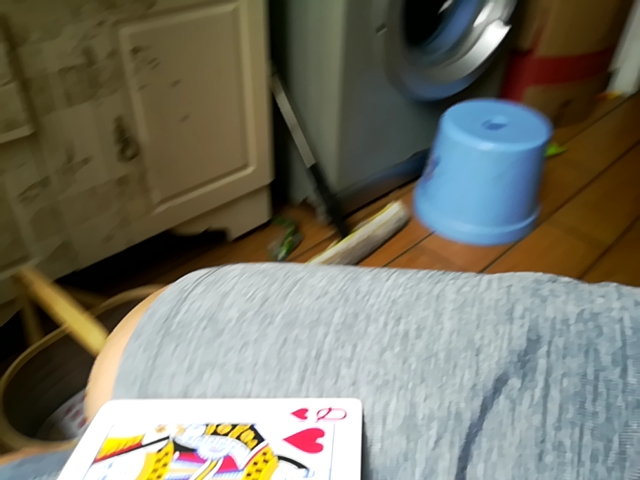hx q: (46, 401, 367, 480)
